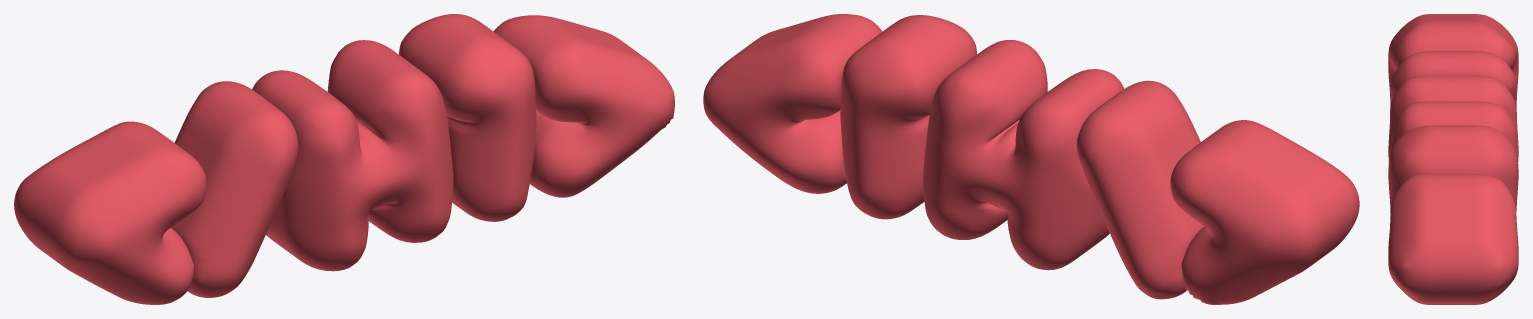
3 renders of one model, left to right at view 1: azimuth 30°, elevation 25°; view 2: azimuth 150°, elevation 25°; view 3: azimuth 270°, elevation 25°, orthographic. The views are drawn at different scales.
Visible parts, largest first — view 1: Text.006; view 2: Text.006; view 3: Text.006.
Boxes of the visible parts, left/top/right/bottom form: Text.006: left=14, top=14, right=674, bottom=304; Text.006: left=703, top=14, right=1359, bottom=304; Text.006: left=1388, top=14, right=1518, bottom=304.
Size of the model in its own units: 23.69 by 7.01 by 5.41.
